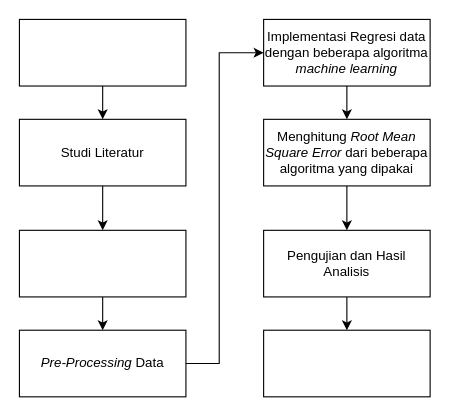
Image size: 450x416. Some labels were removed from this diagram. The shapes that lost their labels are listed below. From the top down, each one's box as (x1, y1, x2, y2) in pixels, then its label:
(18, 18, 186, 86): Identifikasi Masalah
(18, 229, 186, 297): Pengambilan data mentah dari AWOS
(263, 329, 430, 397): Kesimpulan
